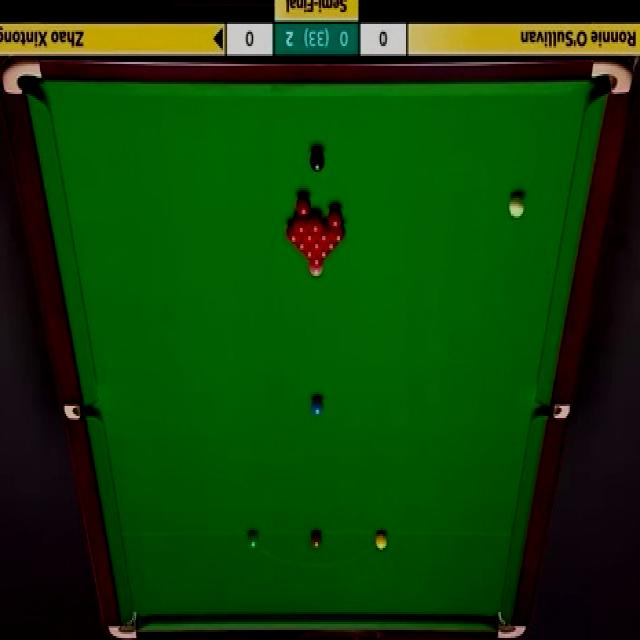pocket: (0, 57, 42, 103), (594, 62, 632, 92), (108, 611, 142, 640), (498, 615, 527, 640), (533, 403, 569, 419), (65, 403, 98, 419)
